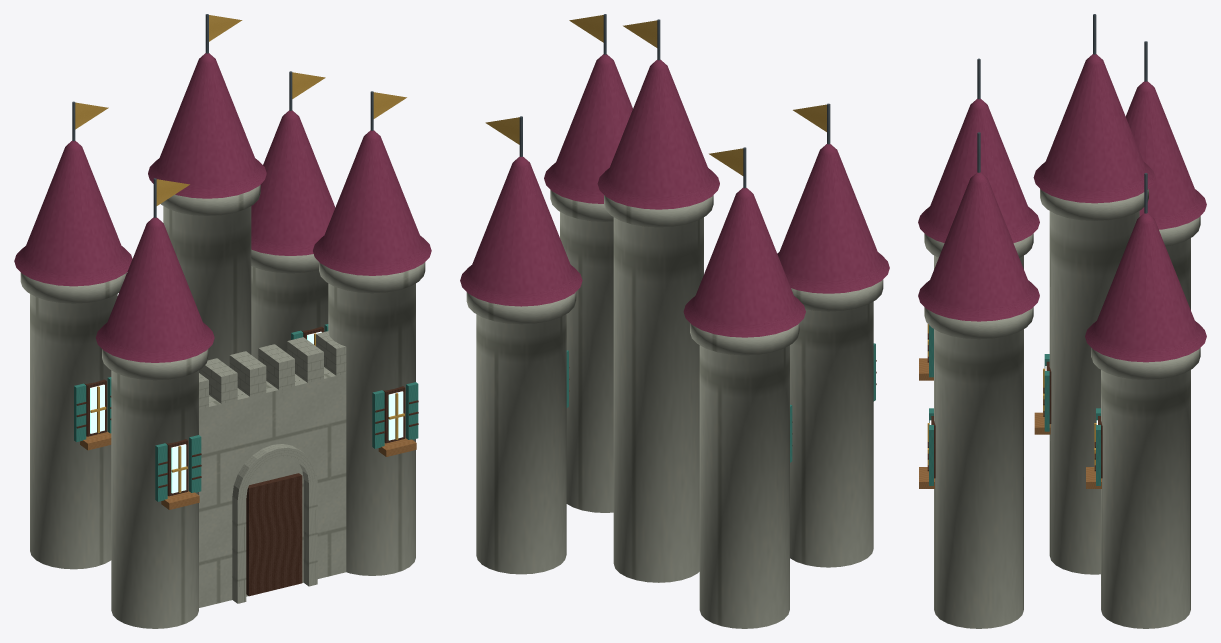
The model's file is castle.glb.
3 renders of one model, left to right at view 1: azimuth 30°, elevation 25°; view 2: azimuth 150°, elevation 25°; view 3: azimuth 270°, elevation 25°, orthographic. The views are drawn at different scales.
Visible parts, largest first — view 1: castle; view 2: castle; view 3: castle.
Part boxes in pixels (box(x1,y1,x2,y2)): castle: box(14, 14, 431, 628); castle: box(460, 14, 889, 628); castle: box(918, 14, 1206, 628).
Size of the model in its own units: 5.9 by 9.3 by 4.5.
Materials: 9 (9 with a texture image).
